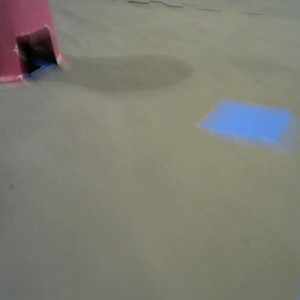middle: (1, 1, 64, 85)
